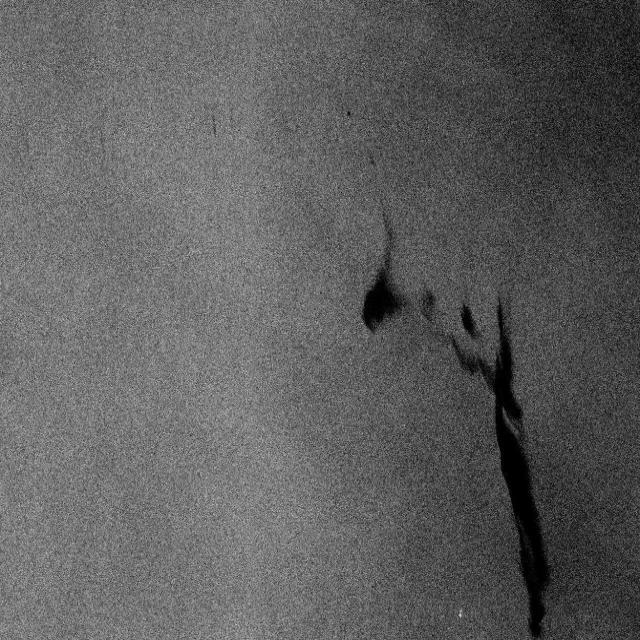oil-spill: (449, 294, 564, 640), (354, 201, 414, 344)
